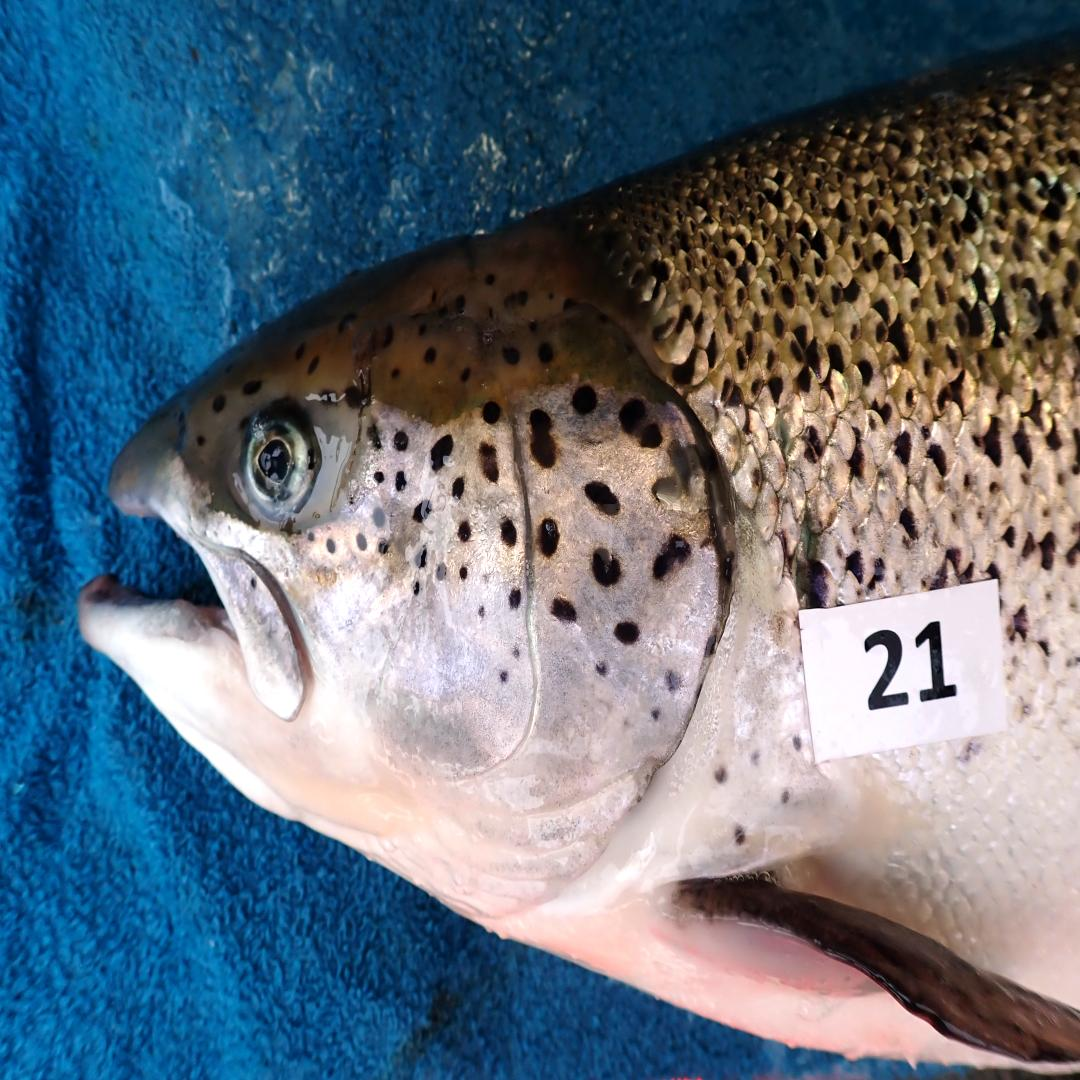roi: (304, 373, 728, 923)
